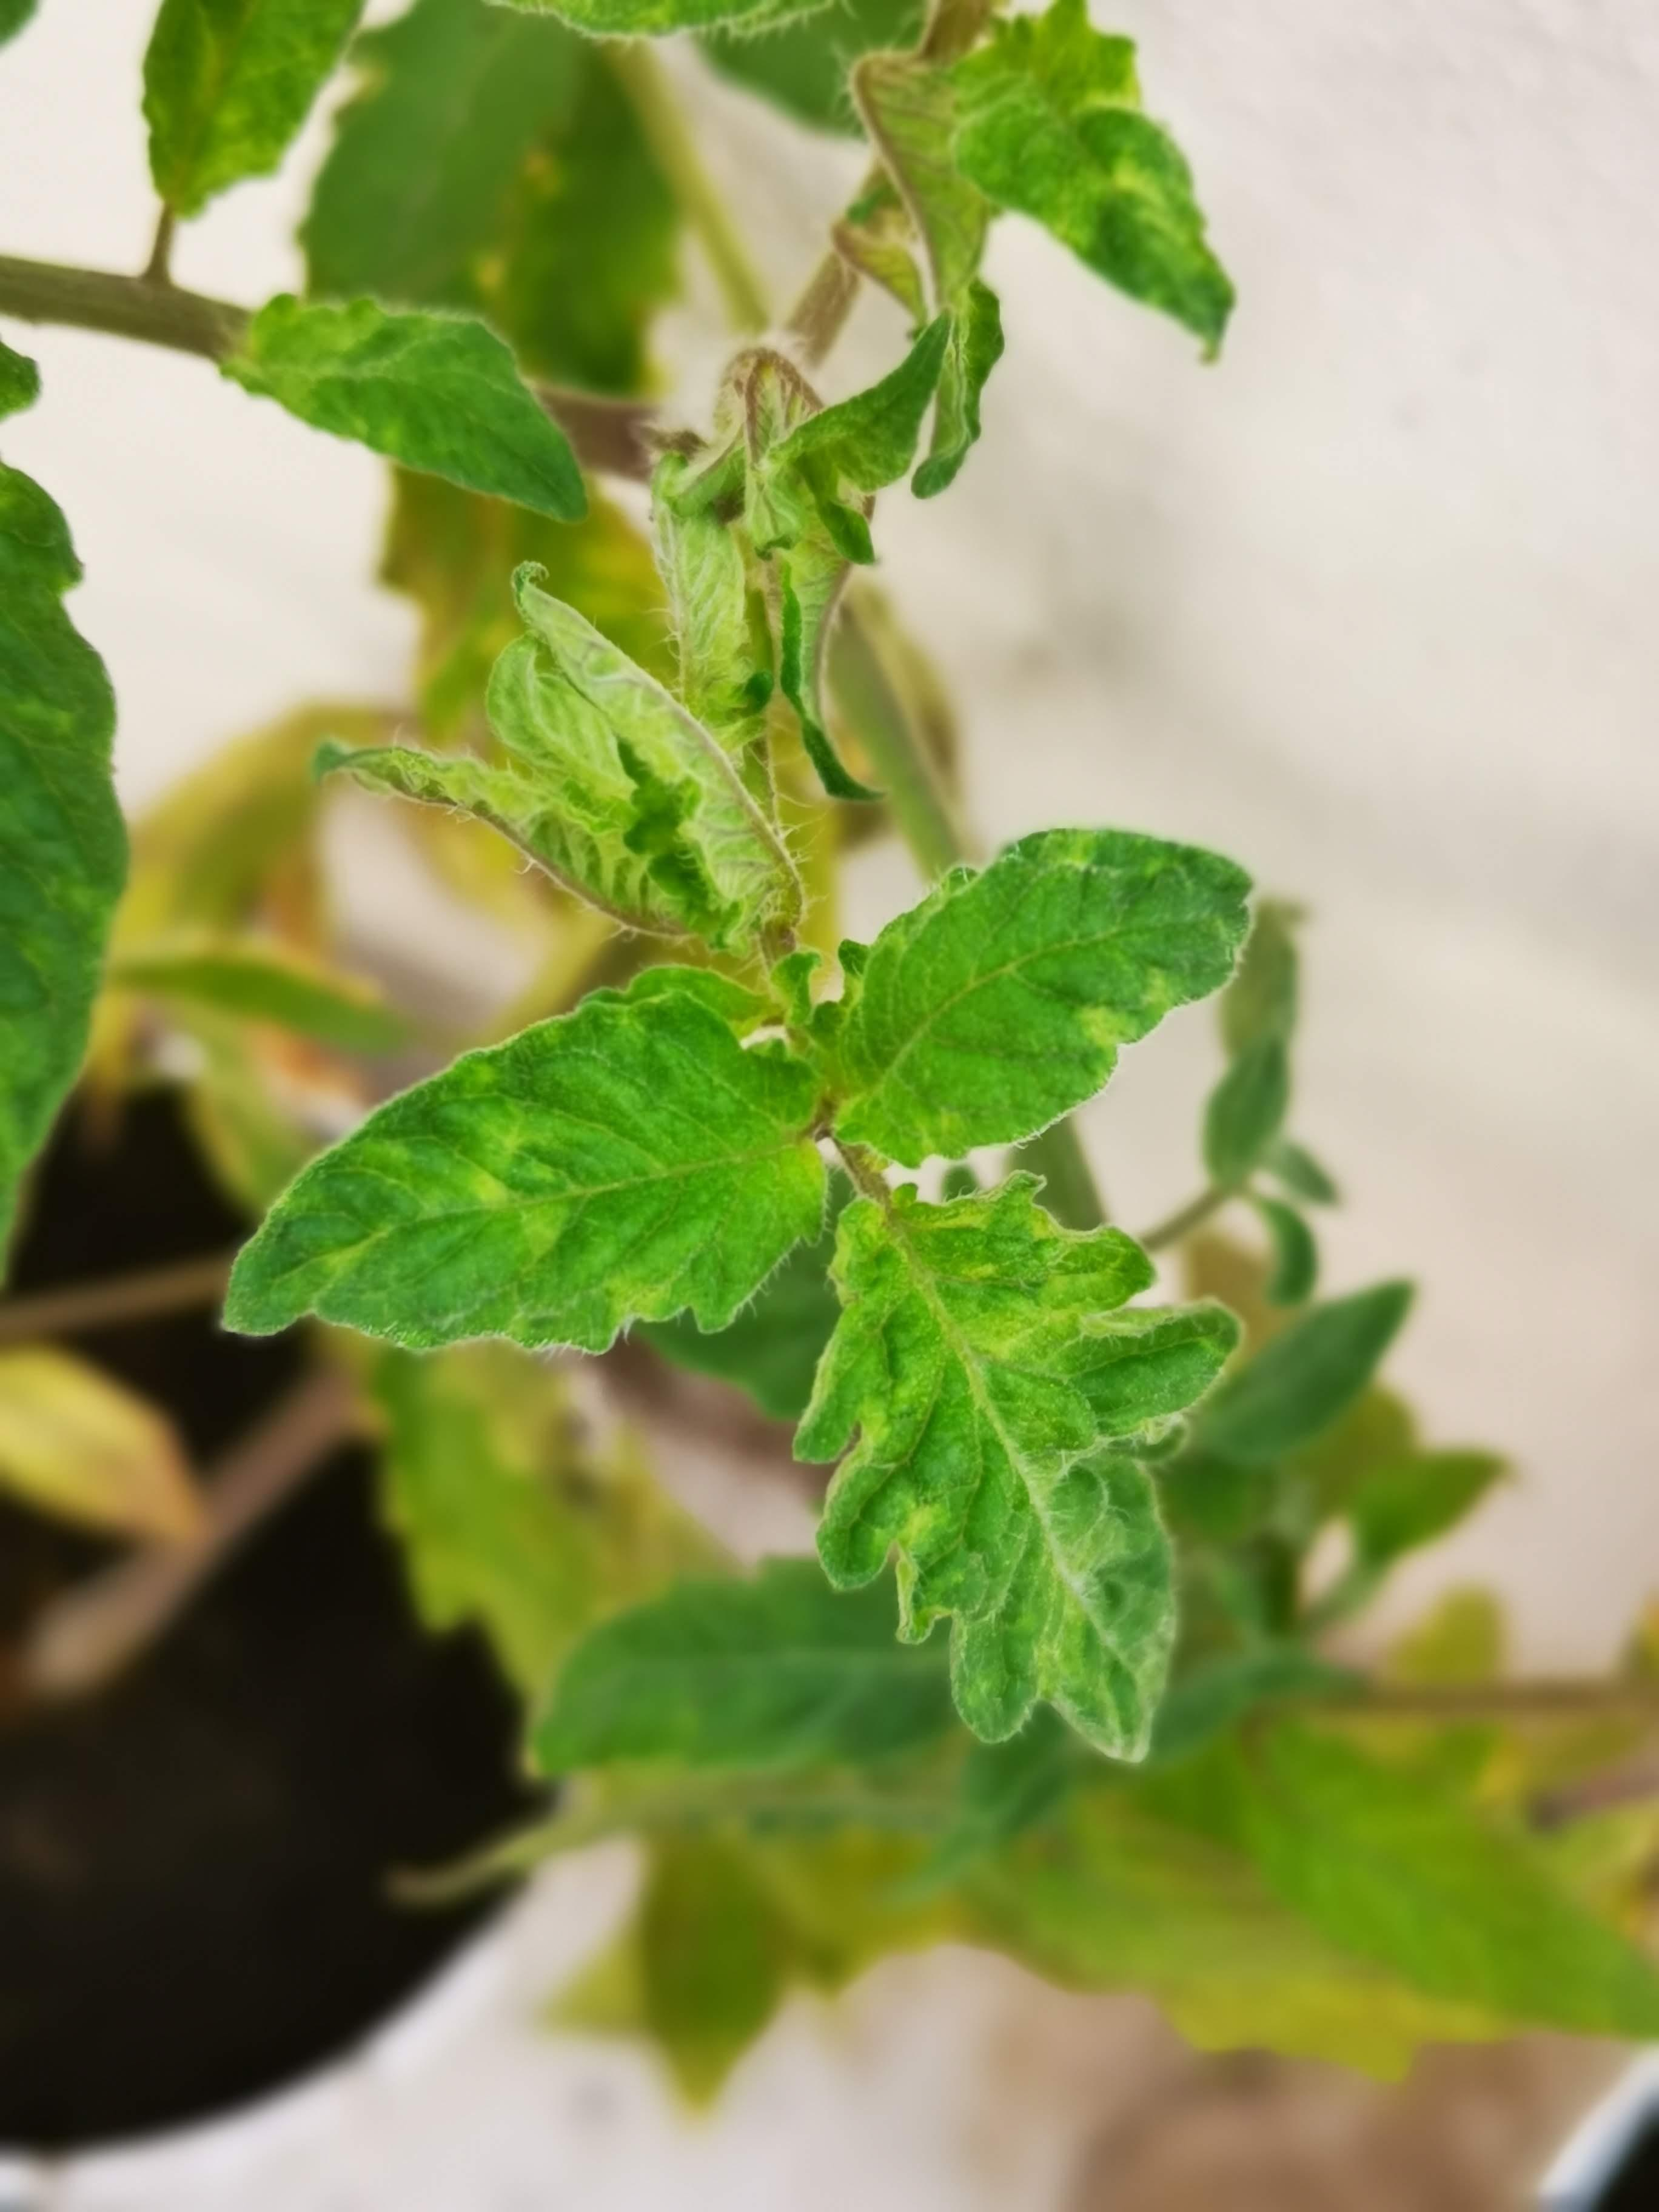Rugose leaf: (791, 1169, 1239, 1764), (223, 986, 829, 1353), (336, 566, 805, 988), (769, 831, 1255, 1167), (687, 331, 938, 805), (777, 0, 1004, 498), (652, 484, 770, 749)
